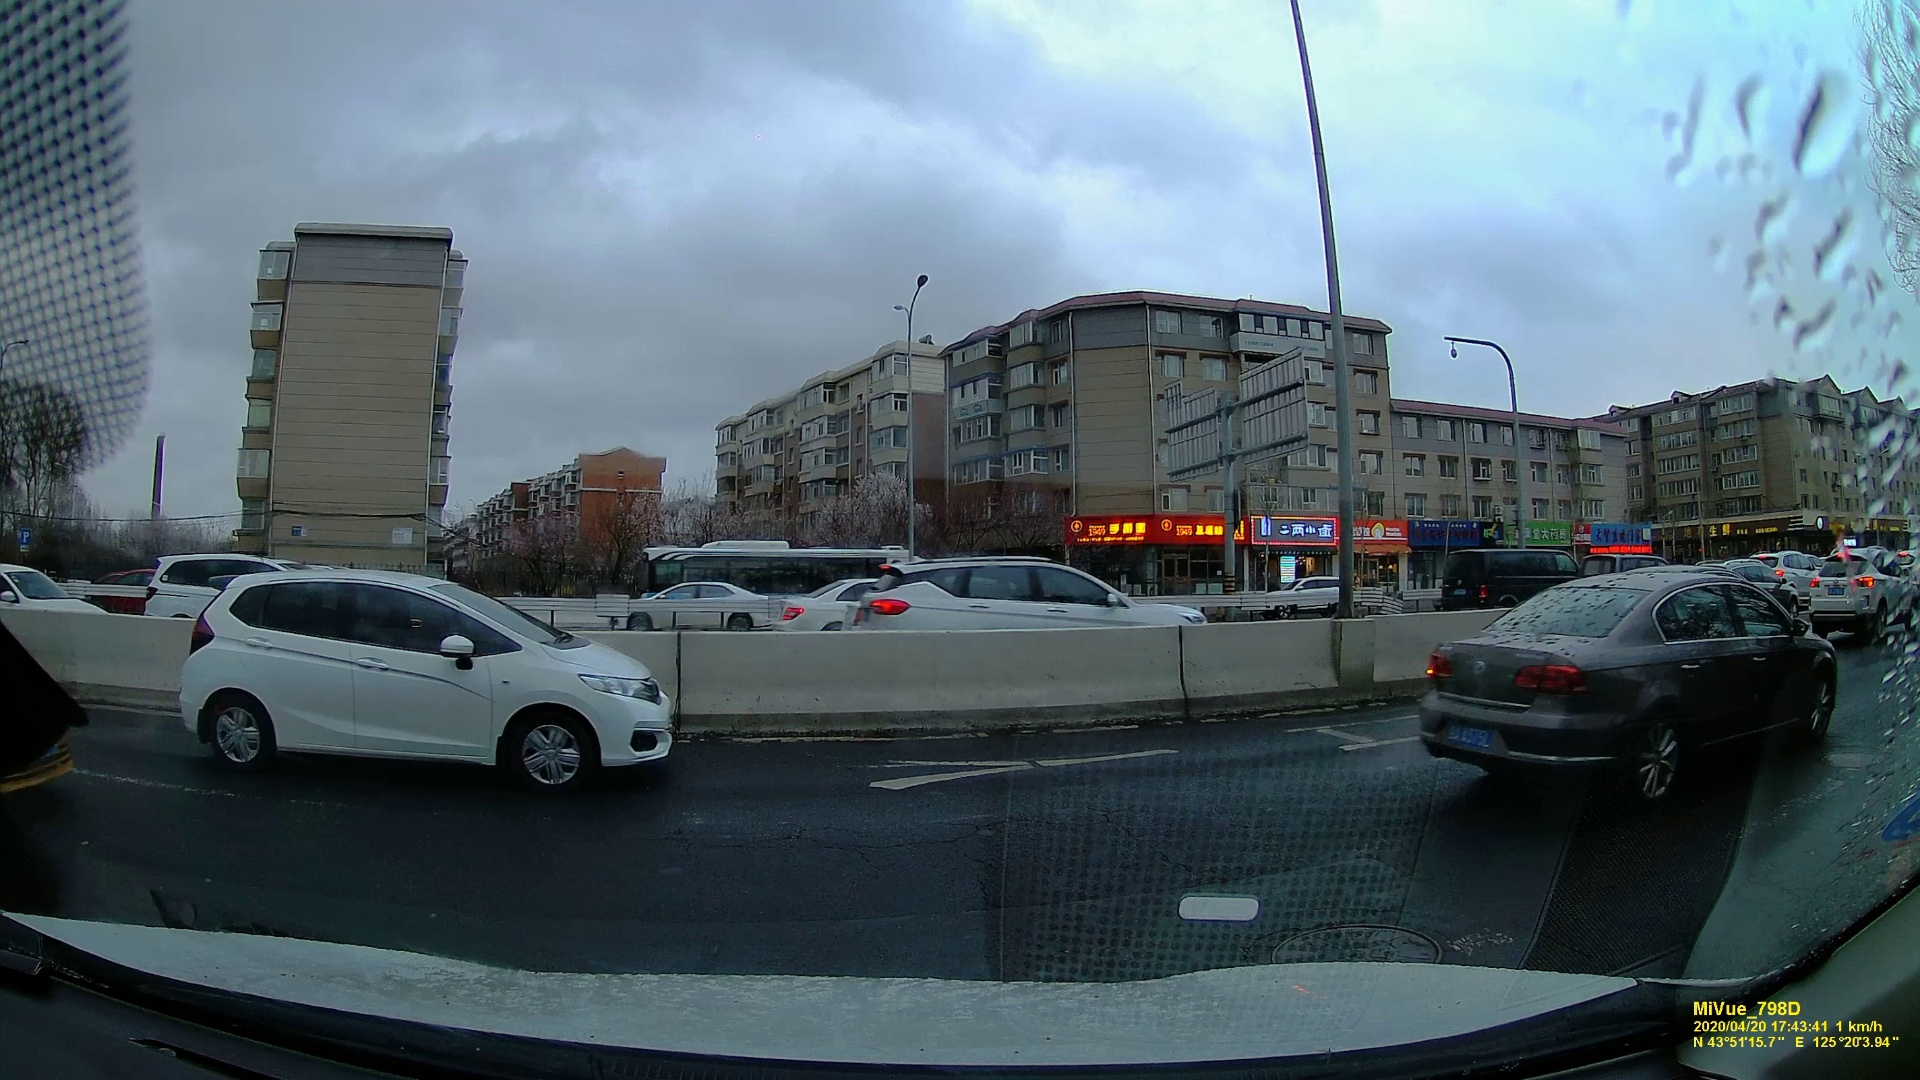minibus: (1437, 547, 1567, 613)
vehicle: (1418, 541, 1840, 808), (173, 568, 667, 795), (851, 550, 1201, 644), (133, 550, 298, 617), (1815, 545, 1919, 640), (616, 582, 777, 633), (1, 558, 105, 616), (1253, 570, 1342, 617), (1764, 550, 1820, 578)
